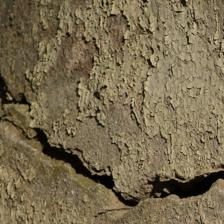Crack: (35, 123, 130, 216), (121, 161, 224, 207)
